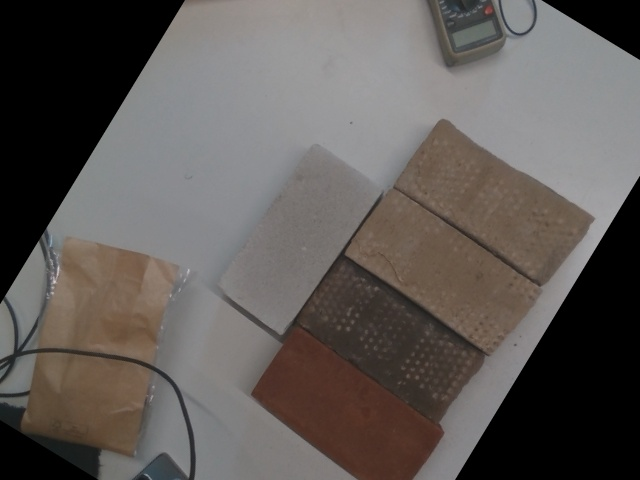brick: (392, 114, 589, 283), (343, 184, 540, 353), (214, 142, 383, 334), (293, 256, 486, 423), (250, 330, 443, 479)
